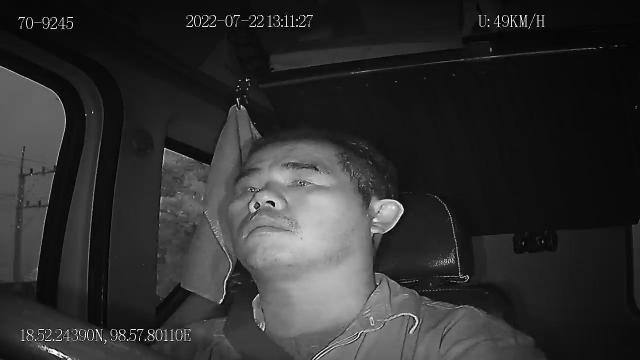SafeDriving: (280, 160, 332, 193), (282, 168, 330, 194)
Seatbelt: (222, 302, 296, 360)
